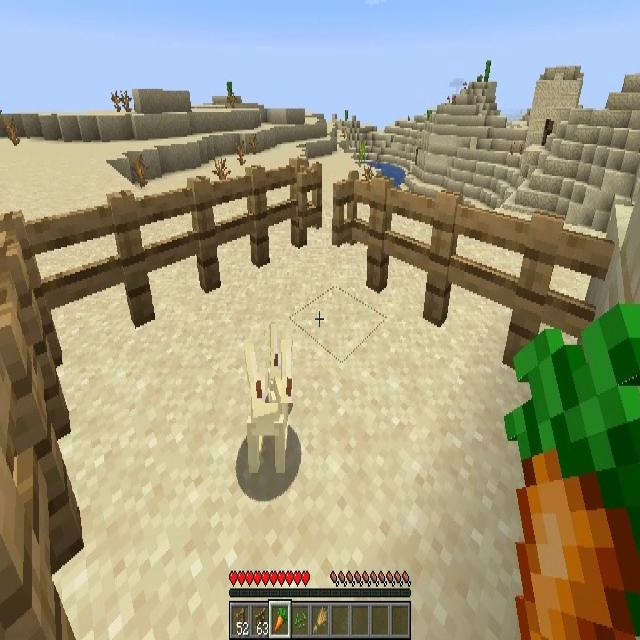rabbit: (246, 352, 288, 471), (265, 324, 293, 403)
